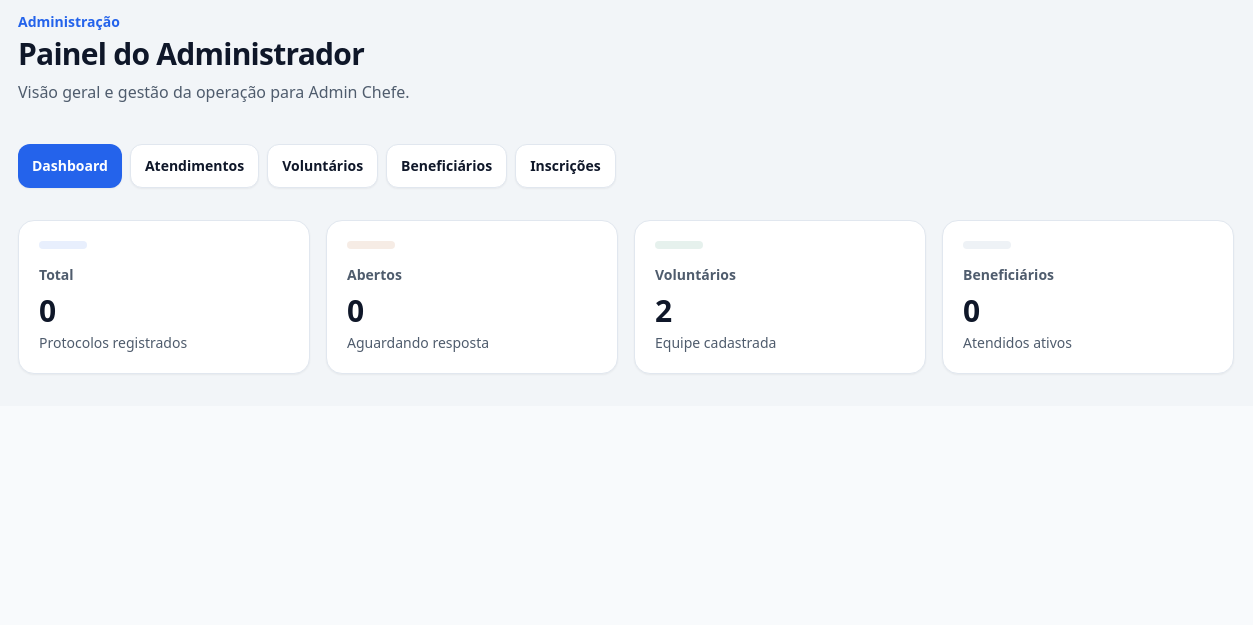
DashboardAdmin › deve filtrar voluntários por nome ou CRO em tempo real
Check: the heading "Painel do Administrador" is shown, box x1=18 y1=36 x2=410 y2=72
Click the button "Voluntários" at point(323, 166), box x1=267 y1=144 x2=378 y2=188
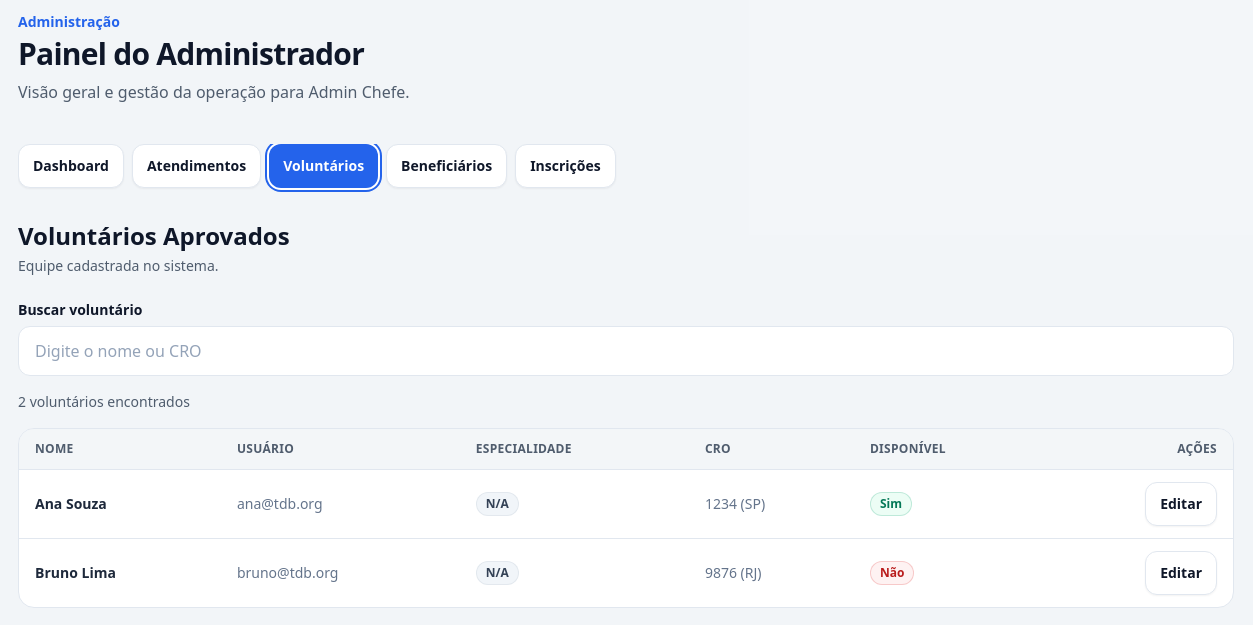
Type "9876" into the search field labelled "Buscar voluntário" at point(626, 351), box x1=18 y1=326 x2=1234 y2=376
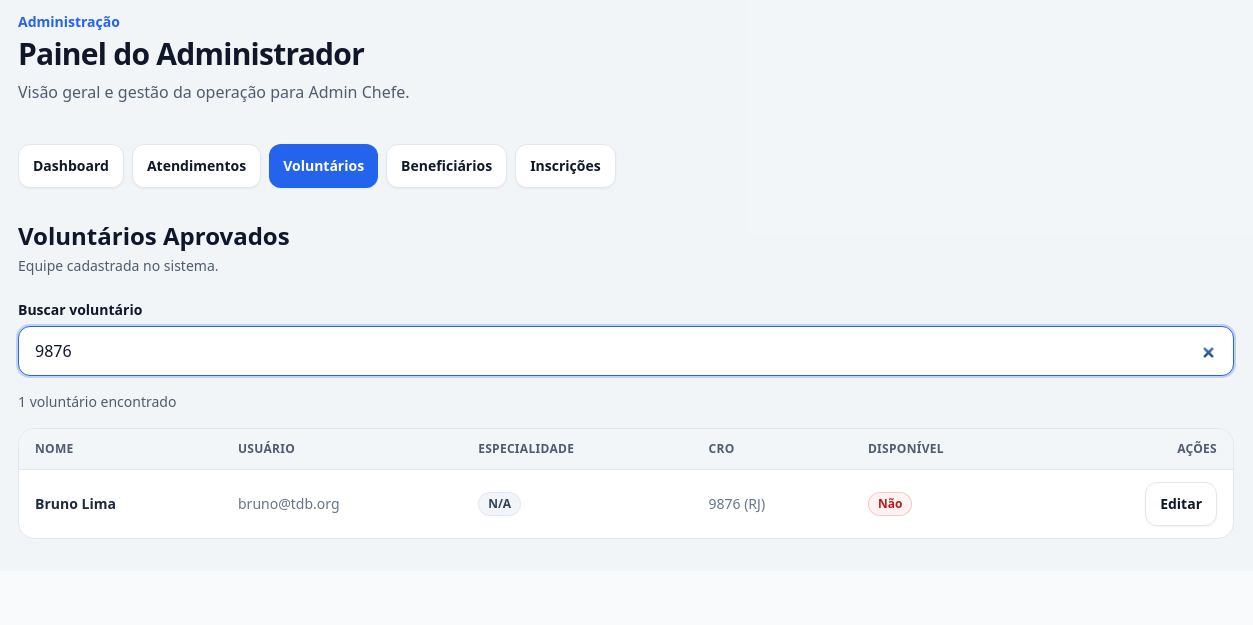
Check: the text "Bruno Lima" is shown, box x1=19 y1=470 x2=222 y2=538
Check: the text "Ana Souza" is gone
Check: the text "1 voluntário encontrado" is shown, box x1=18 y1=392 x2=176 y2=411
